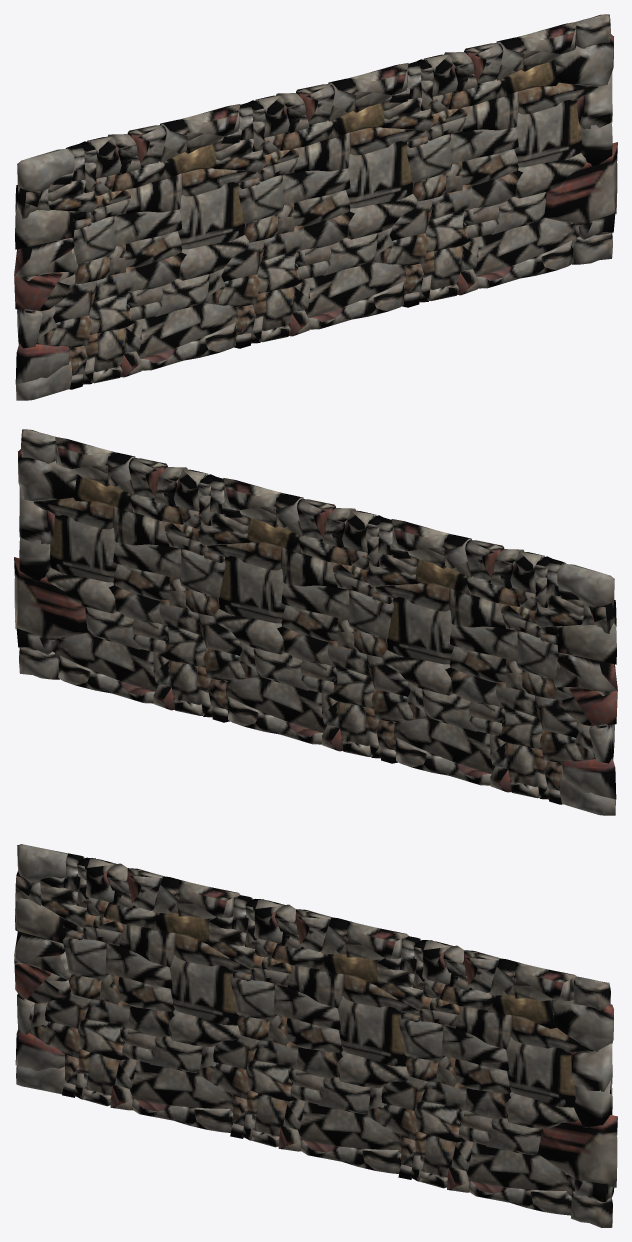
File: castlewallhalf.glb
The picture shows the model from 3 angles, top to bottom: view 1: azimuth 30°, elevation 25°; view 2: azimuth 150°, elevation 25°; view 3: azimuth 330°, elevation 25°; orthographic projection.
Visible parts, largest first — view 1: CastleWallHalf; view 2: CastleWallHalf; view 3: CastleWallHalf.
Part boxes in pixels (x1,y1,x2,y2): CastleWallHalf: (14,14,617,400); CastleWallHalf: (14,429,617,815); CastleWallHalf: (14,844,617,1227).
Bounding box in the file's own units: 10.17 × 3.93 × 0.4971.
Materials: 1 (1 with a texture image).
